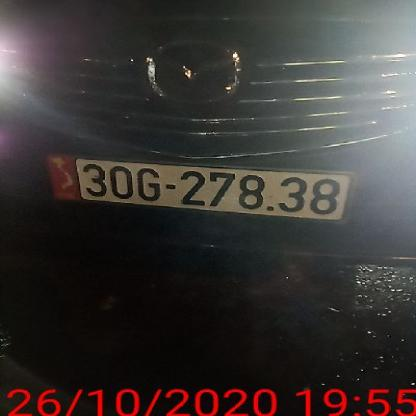biensoxe: (40, 154, 346, 226)
